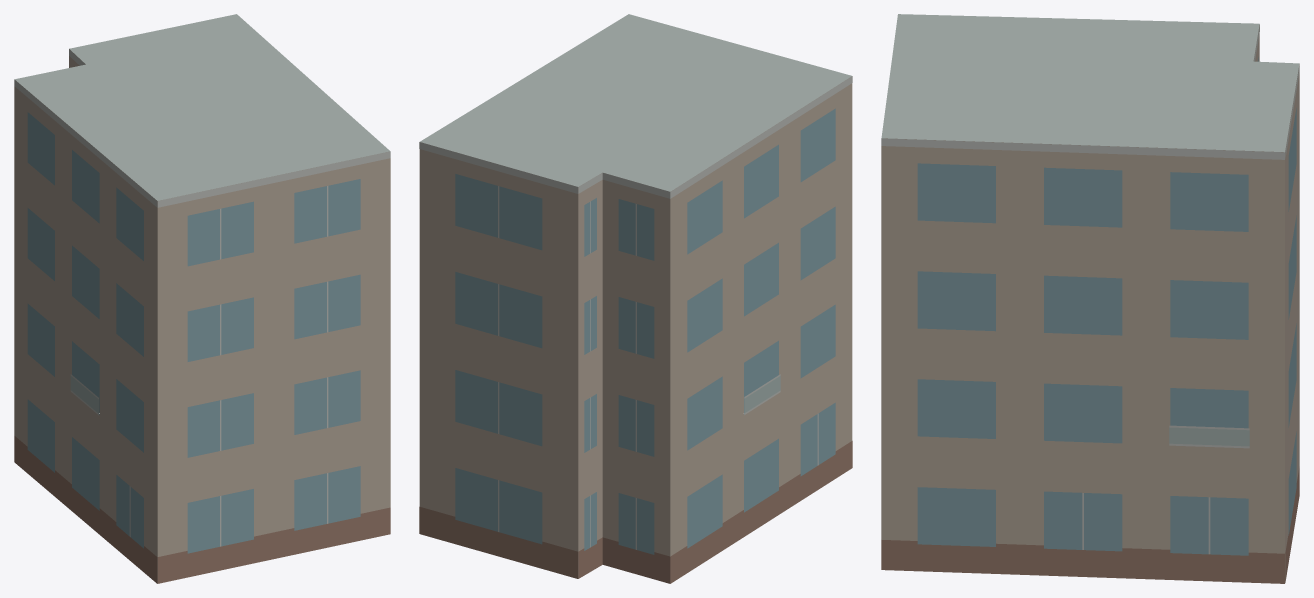
File: survey-upis-32954826.glb
The picture shows the model from 3 angles, left to right: view 1: azimuth 30°, elevation 25°; view 2: azimuth 150°, elevation 25°; view 3: azimuth 270°, elevation 25°; orthographic projection. The views are drawn at different scales.
Parts seen in each view (by area): view 1: survey-upis-32954826.tmp; view 2: survey-upis-32954826.tmp; view 3: survey-upis-32954826.tmp.
Part boxes in pixels (x1,y1,x2,y2): survey-upis-32954826.tmp: (14, 14, 390, 583); survey-upis-32954826.tmp: (419, 14, 852, 583); survey-upis-32954826.tmp: (881, 14, 1299, 583).
Bounding box in the file's own units: 9.31 × 13.55 × 11.9.
